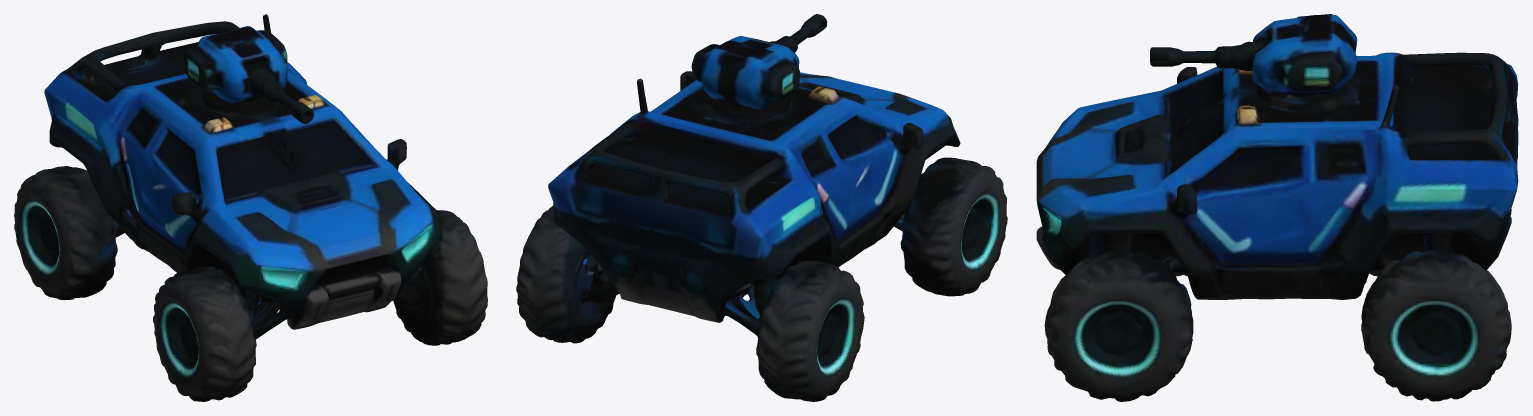
The model's file is car.glb.
3 renders of one model, left to right at view 1: azimuth 30°, elevation 25°; view 2: azimuth 150°, elevation 25°; view 3: azimuth 270°, elevation 25°, orthographic. The views are drawn at different scales.
Visible parts, largest first — view 1: texture_pbr_v128; view 2: texture_pbr_v128; view 3: texture_pbr_v128.
Part boxes in pixels (<box>): texture_pbr_v128: <box>14,14,487,401</box>; texture_pbr_v128: <box>516,14,1007,401</box>; texture_pbr_v128: <box>1036,14,1518,401</box>.
Bounding box in the file's own units: 0.7221 × 0.649 × 0.9292.
Materials: 1 (1 with a texture image).
